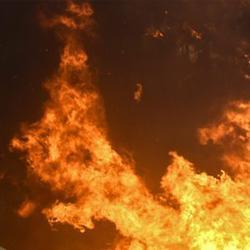fire: (168, 174, 249, 249), (33, 126, 106, 190), (58, 42, 96, 120), (109, 186, 157, 246)
